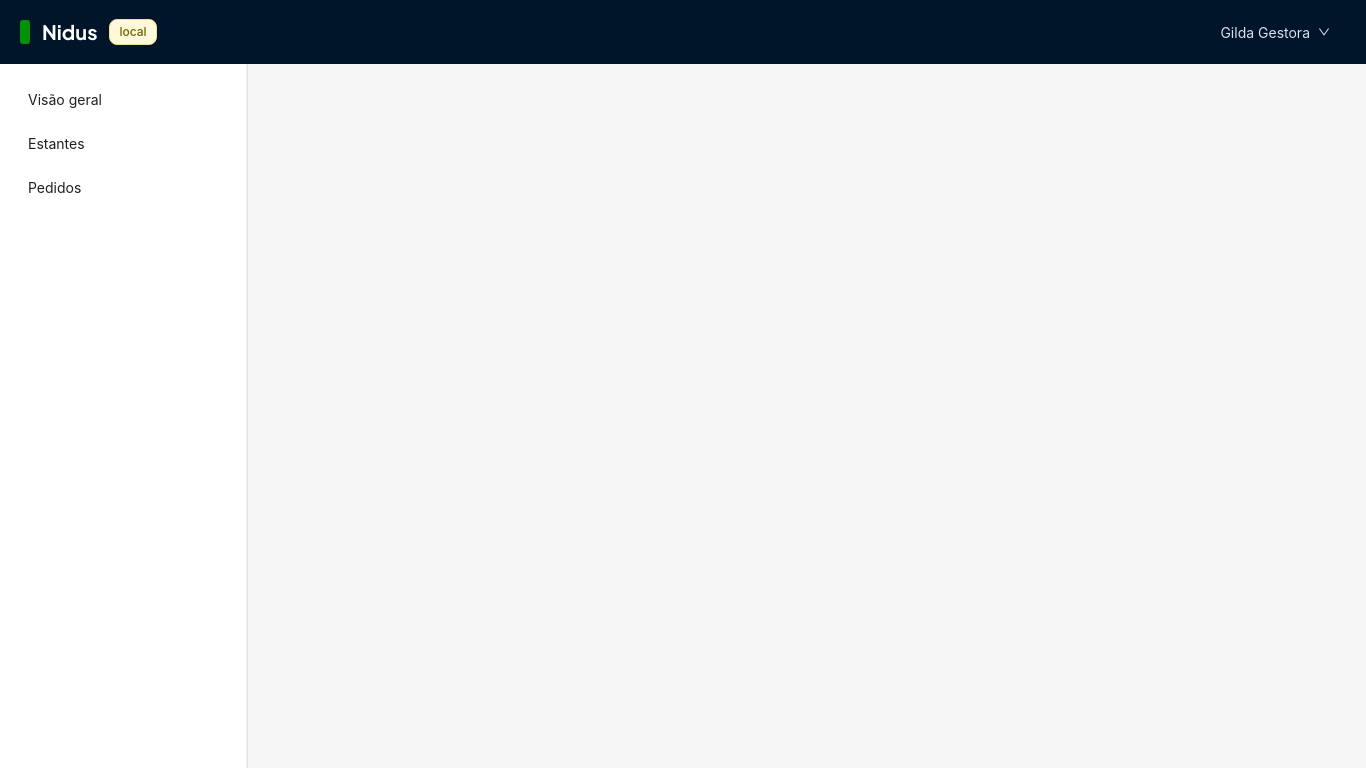
Test case: menu da conta › o técnico tem Cadastros em Configurações, sem o Histórico e as Contas
The width and height of the screenshot is (1366, 768).
Click the button with aria-label "Menu da conta de Gilda Gestora".
click(1275, 32)  # box [1204,16,1346,48]
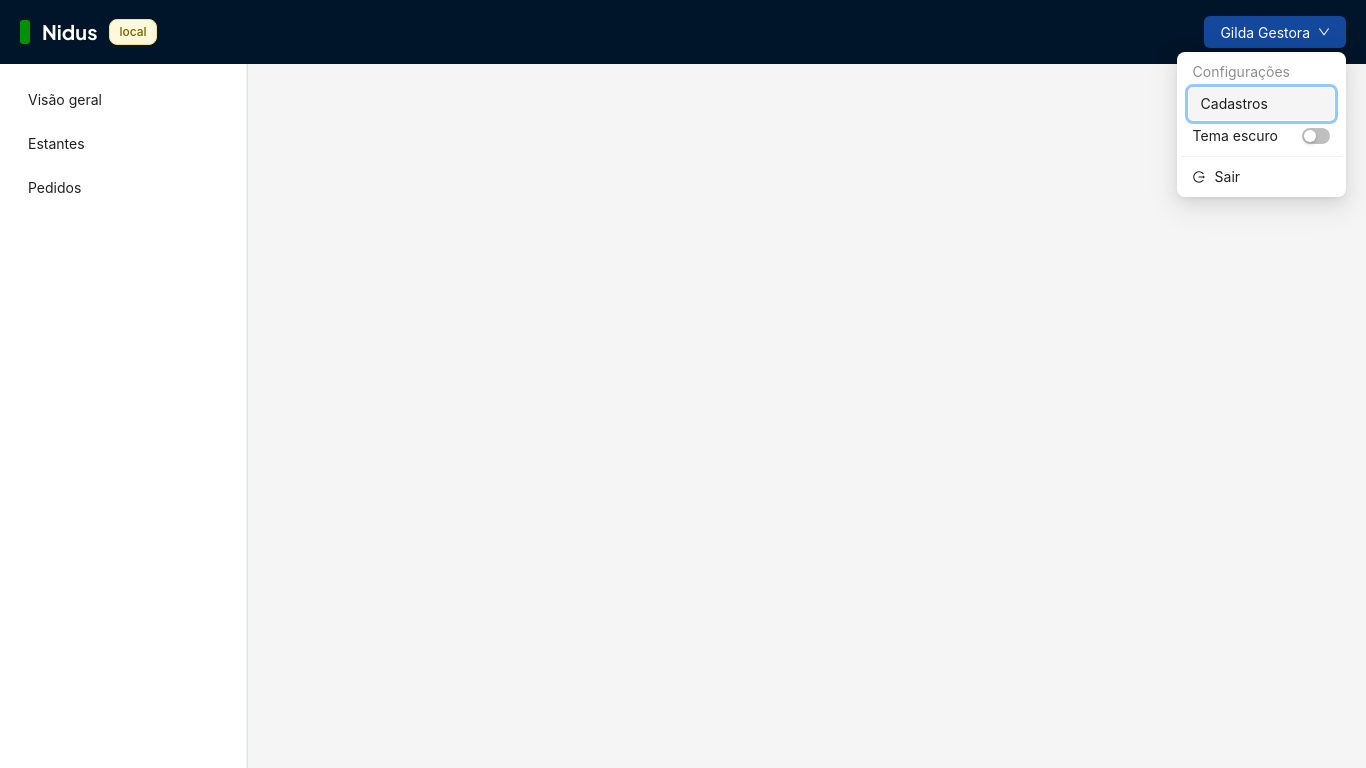
Expected: the text "Configurações" is shown, [1193,63,1290,80]
Expected: the menu items read "Cadastros", "Tema escuro", "Sair", in this order, [1189,88,1334,120]; [1193,127,1330,144]; [1193,168,1240,185]
